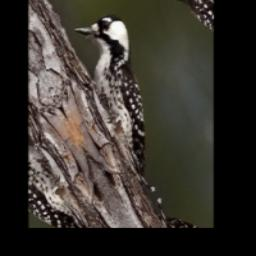Woodpecker: (60, 0, 186, 183)
